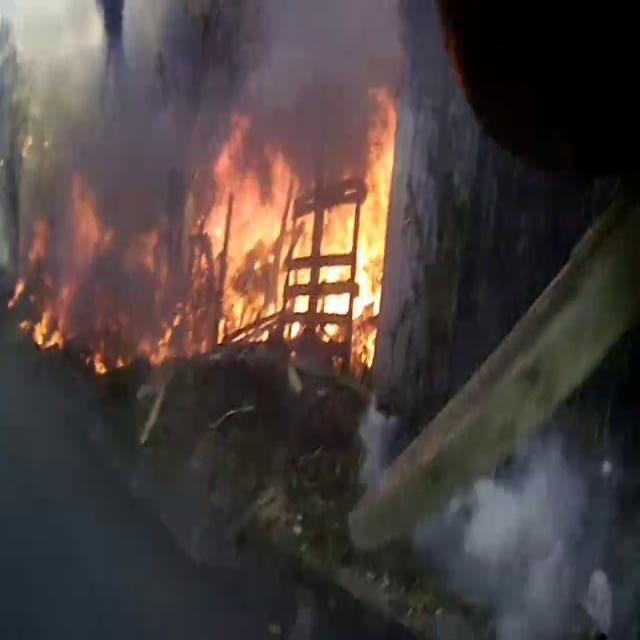Fire: (192, 100, 404, 356), (8, 240, 83, 357)
Smoke: (1, 0, 221, 358)
